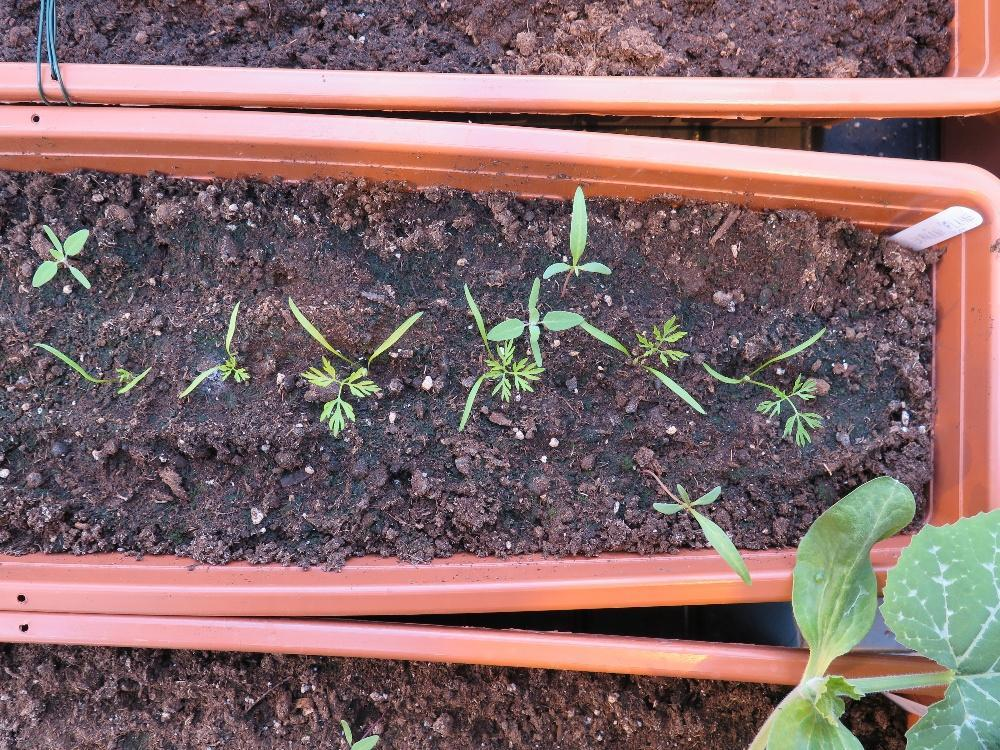crop: (286, 295, 429, 439), (176, 298, 249, 399), (29, 338, 153, 397)
weed: (649, 481, 751, 587), (540, 182, 612, 279), (30, 219, 90, 288)
